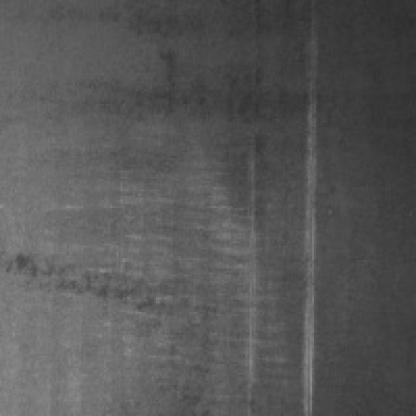scratches: (294, 37, 316, 406)
